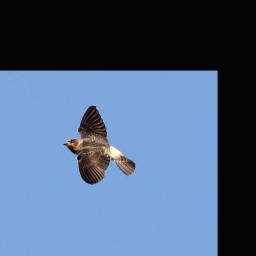Swallow: (61, 104, 137, 186)
